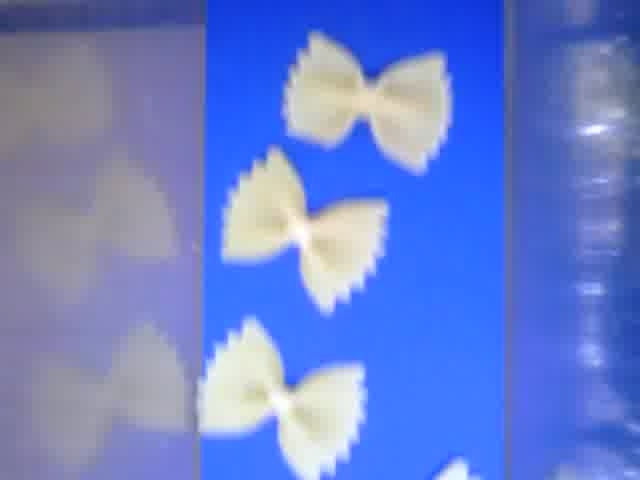farfalle: (221, 144, 391, 311), (198, 315, 368, 480), (280, 29, 456, 174)
